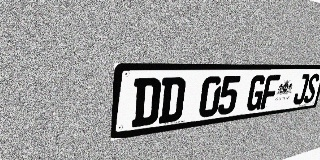0: (198, 76, 223, 118)
5: (217, 76, 241, 115)
D: (131, 78, 162, 127), (158, 77, 187, 124)
F: (260, 75, 281, 110)
G: (245, 75, 267, 112)
J: (292, 74, 310, 105)
S: (303, 74, 320, 104)
